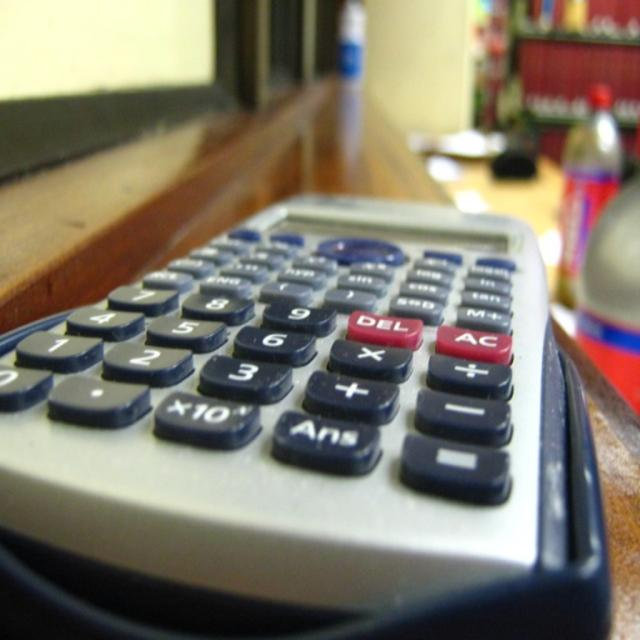Calculator: (0, 189, 614, 639)
